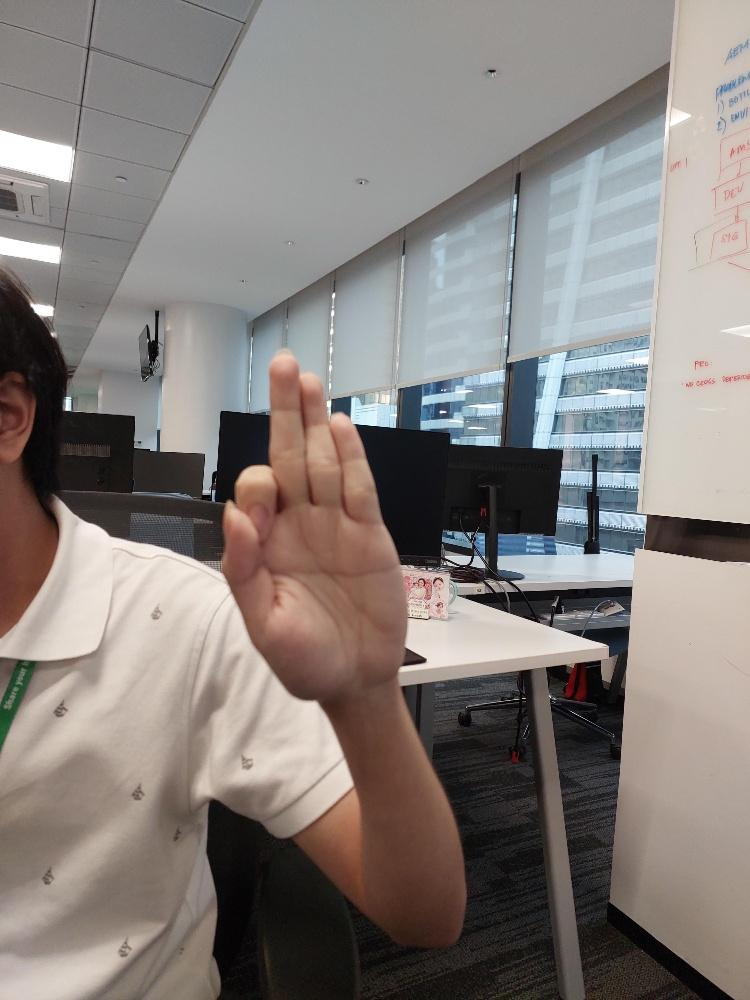f: (216, 346, 411, 699)
